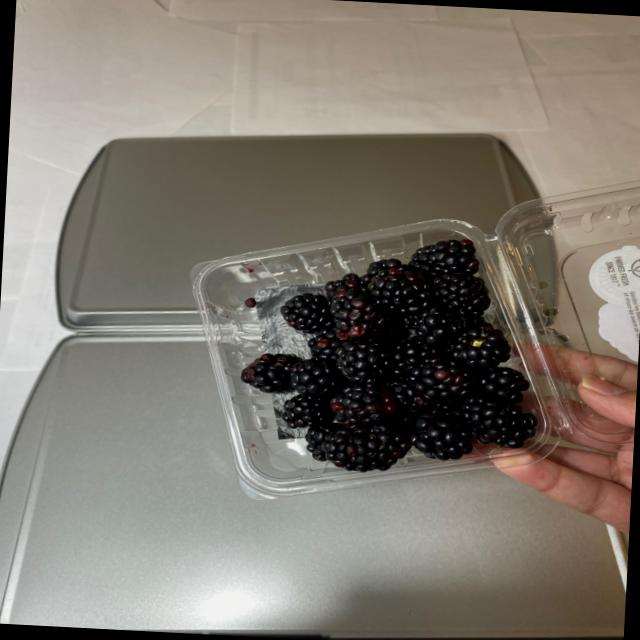blackberries: (235, 210, 499, 484)
